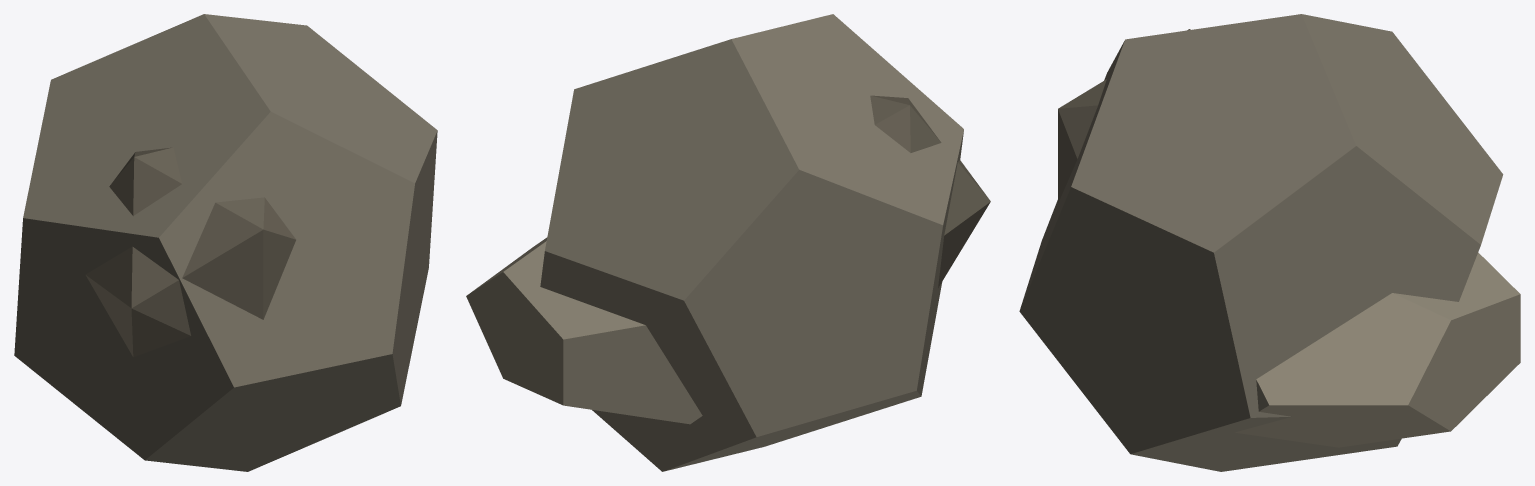
Rendered from rock-2.glb.
3 renders of one model, left to right at view 1: azimuth 30°, elevation 25°; view 2: azimuth 150°, elevation 25°; view 3: azimuth 270°, elevation 25°, orthographic. The views are drawn at different scales.
Parts seen in each view (by area): view 1: rock-2; view 2: rock-2; view 3: rock-2.
Boxes of the visible parts, x1=… form: rock-2: x1=14, y1=14, x2=437, y2=471; rock-2: x1=466, y1=14, x2=990, y2=471; rock-2: x1=1019, y1=14, x2=1520, y2=471.
Bounding box in the file's own units: 1.79 × 1.82 × 1.81.
